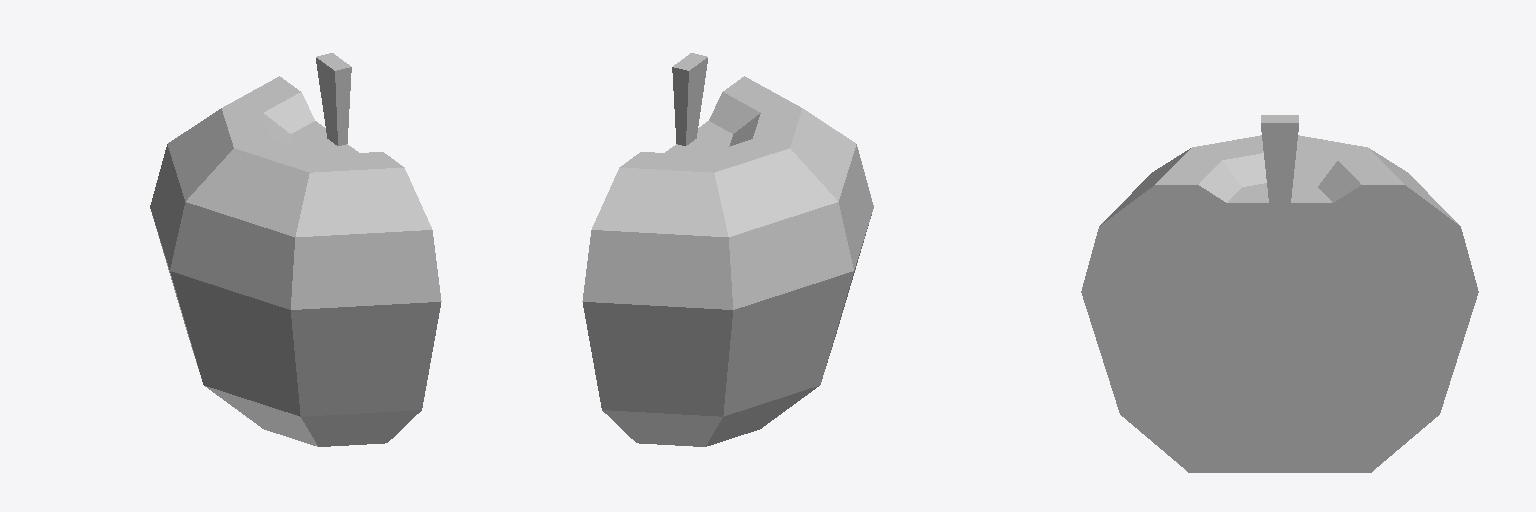
File: apple-half.obj
3 views of the same model, side by side, from view 1: azimuth 30°, elevation 25°; view 2: azimuth 150°, elevation 25°; view 3: azimuth 270°, elevation 25° (orthographic).
Visible parts, largest first — view 1: apple-half; view 2: apple-half; view 3: apple-half.
Boxes of the visible parts, x1,y1,x2,y2 form: apple-half: [150, 53, 441, 446]; apple-half: [582, 53, 873, 446]; apple-half: [1081, 115, 1478, 472].
Size of the model in its own units: 0.0981 by 0.1908 by 0.1963.